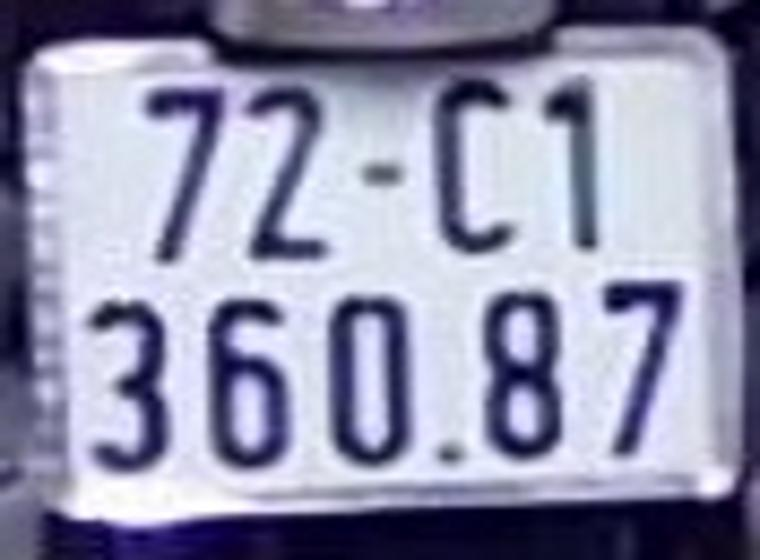-: (357, 164, 397, 183)
.: (437, 438, 459, 461)
0: (327, 293, 412, 469)
1: (543, 75, 601, 250)
2: (247, 83, 327, 260)
3: (91, 299, 165, 478)
6: (208, 299, 289, 468)
7: (603, 277, 683, 458), (145, 85, 221, 261)
8: (484, 291, 561, 457)
C: (434, 79, 510, 254)
